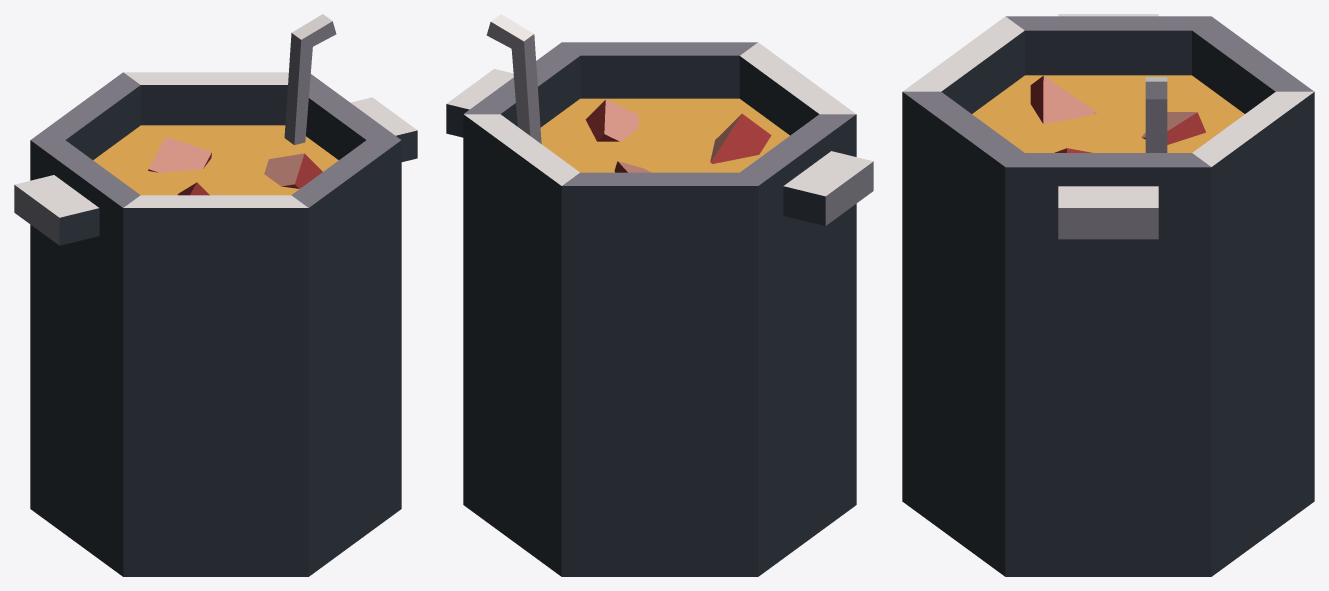
The model's file is TB_Prop_Caldron_Full.FBX.
3 views of the same model, side by side, from view 1: azimuth 30°, elevation 25°; view 2: azimuth 150°, elevation 25°; view 3: azimuth 270°, elevation 25° (orthographic). The views are drawn at different scales.
Parts seen in each view (by area): view 1: TB_Prop_Caldron_Full; view 2: TB_Prop_Caldron_Full; view 3: TB_Prop_Caldron_Full.
Boxes of the visible parts, bbox=[...] form: TB_Prop_Caldron_Full: bbox=[14, 14, 417, 576]; TB_Prop_Caldron_Full: bbox=[446, 14, 873, 576]; TB_Prop_Caldron_Full: bbox=[902, 14, 1314, 576].
Size of the model in its own units: 0.8686 by 1.03 by 0.7794.
